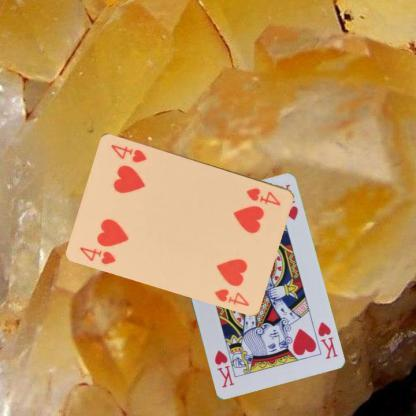4h: (77, 244, 118, 266), (244, 185, 282, 207)
Kh: (314, 318, 338, 361)
